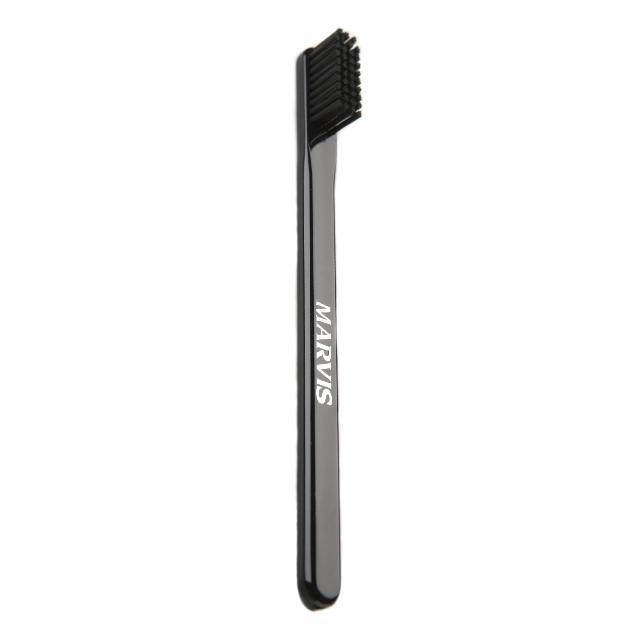toothbrush: (250, 8, 408, 626)
